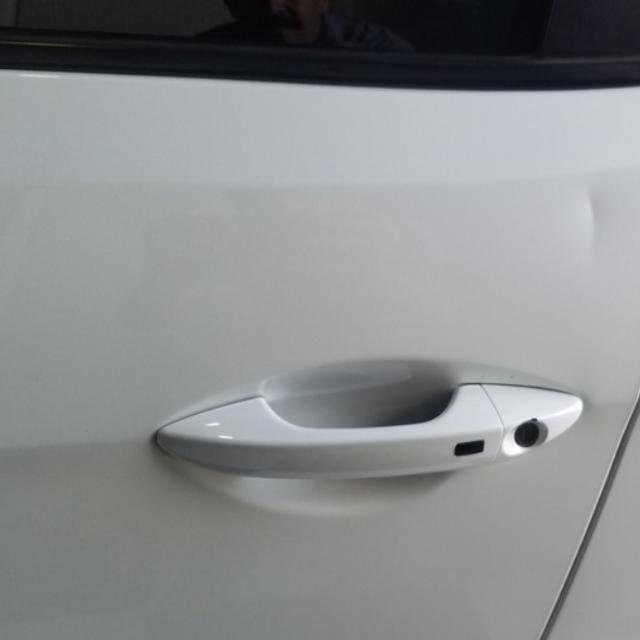dents: (563, 162, 640, 291)
